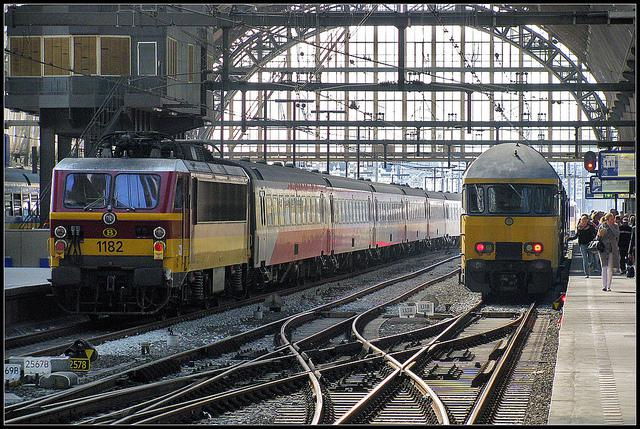Train: (46, 131, 464, 322), (460, 143, 579, 304), (3, 168, 41, 232)
